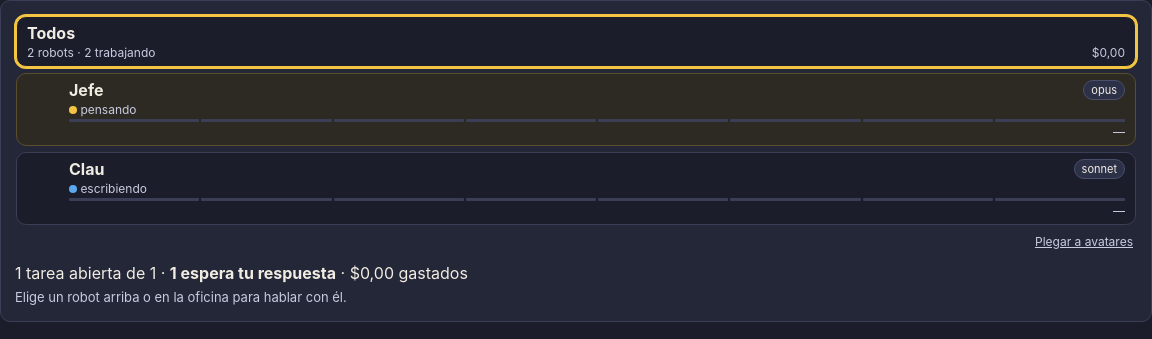
it: AgentTabs › en Todos las tarjetas se pliegan a avatares y se vuelven a desplegar
Check: the number of tabs with class "strip-card" is 3, box top-left (16, 16), bottom-right (1136, 67); top-left (16, 73), bottom-right (1136, 146); top-left (16, 152), bottom-right (1136, 225)
Click the button "Plegar a avatares" at (1084, 242), box top-left (1029, 232), bottom-right (1139, 251)
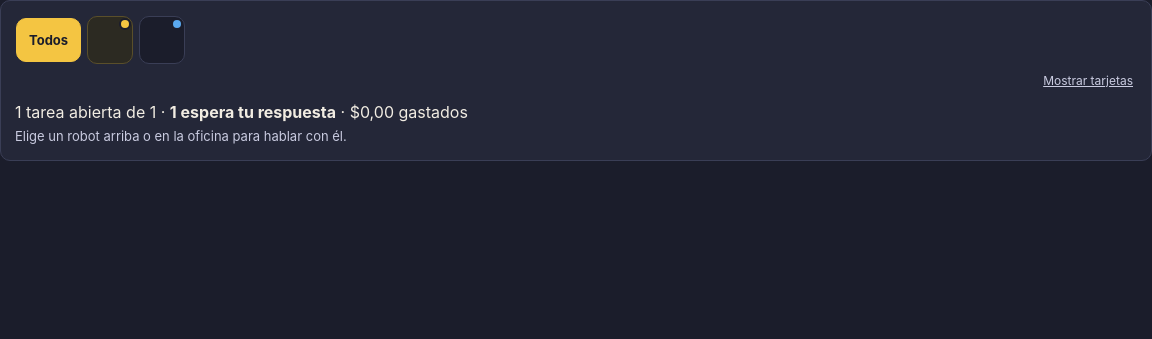
Check: the number of tabs with class "strip-chip" is 2, box top-left (87, 16), bottom-right (133, 64); top-left (139, 16), bottom-right (185, 64)
Click the button "Mostrar tarjetas" at (1088, 80), box top-left (1037, 71), bottom-right (1139, 90)
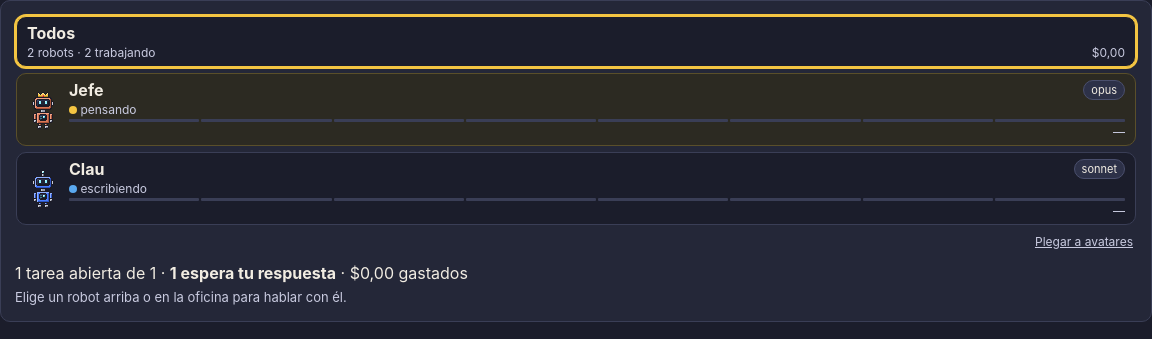
Check: the number of tabs with class "strip-card" is 3, box top-left (16, 16), bottom-right (1136, 67); top-left (16, 73), bottom-right (1136, 146); top-left (16, 152), bottom-right (1136, 225)
